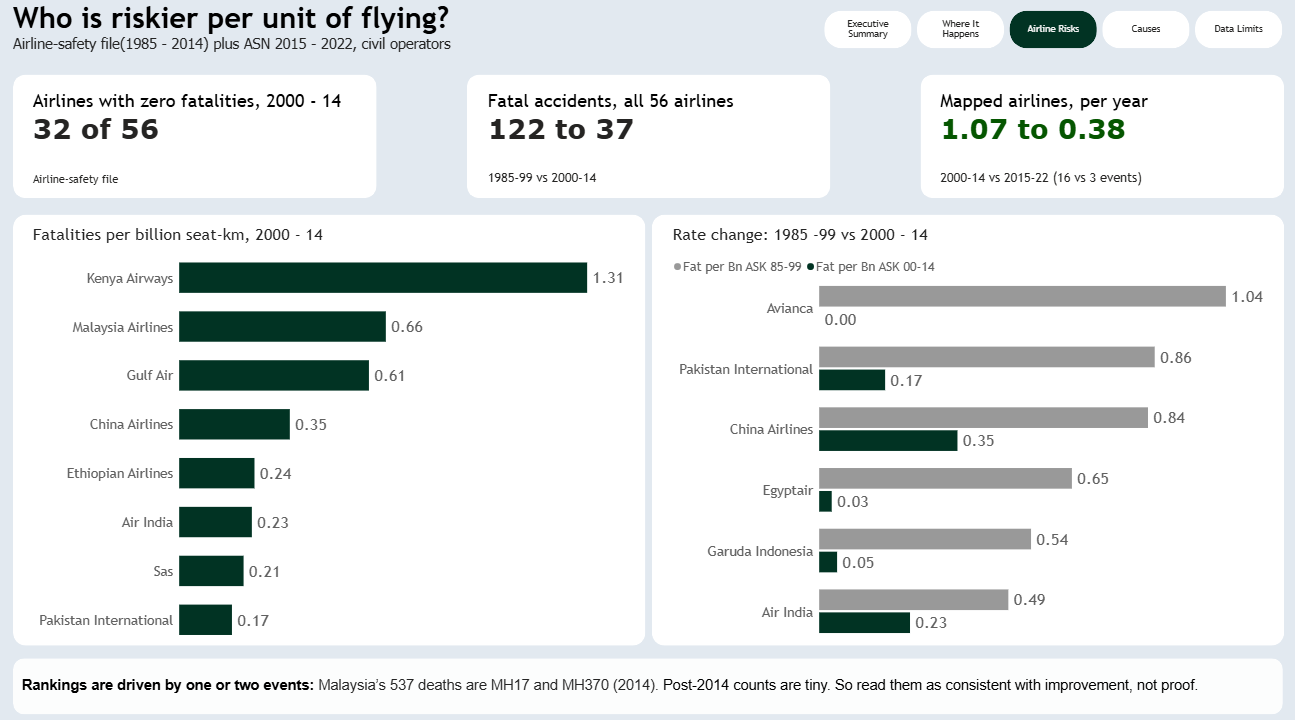

What the dashboard file says about the page in this screenshot:
{"tool":"powerbi","page":{"name":"Airline Risks","canvas":[1920,1080],"ordinal":2},"visuals":[{"type":"shape","box":[29.3,121.1,533.8,181.6],"z":0},{"type":"shape","box":[695.2,121.1,533.8,181.6],"z":1000},{"type":"shape","box":[1361,121.1,533.8,181.6],"z":2000},{"type":"shape","box":[29.3,327.4,928.1,632.8],"z":3000},{"type":"shape","box":[966.6,327.4,928.1,632.8],"z":4000},{"type":"textbox","box":[29.3,12.8,695.2,95.4],"z":5000},{"type":"cardVisual","fields":{"Data":["Dax Measures.Zero-Fatality Display"]},"box":[42.2,121.1,508.1,181.6],"z":7000},{"type":"cardVisual","fields":{"Data":["Dax Measures.Fatal Acc Change"]},"box":[709.9,121.1,495.2,181.6],"z":8000},{"type":"cardVisual","fields":{"Data":["Dax Measures.Per Year Change"]},"box":[1373.9,121.1,506.3,181.6],"z":9000},{"type":"clusteredBarChart","title":"Fatalities per billion seat-km, 2000 - 14","fields":{"Category":["dw airline_safety.airline"],"Y":["Dax Measures.Fat per Bn ASK 00-14"]},"box":[42.2,326.5,900.6,634.7],"z":10000},{"type":"clusteredBarChart","title":"Rate change: 1985 -99 vs 2000 - 14","fields":{"Category":["dw airline_safety.airline"],"Y":["Dax Measures.Fat per Bn ASK 85-99","Dax Measures.Fat per Bn ASK 00-14"]},"box":[981.3,326.5,898.8,632.8],"z":11000},{"type":"pageNavigator","box":[1219.8,27.5,675,55],"z":12000},{"type":"shape","box":[29.3,977.7,1863.6,82.5],"z":13000},{"type":"textbox","box":[42.2,1005.2,1837.9,55],"z":14000}]}

Visuals, with their boxes in screenshot pixels (x1, y1, x2, y2), scaled from the page's 1920x1080 canvas onto the 1295x720 screenshot:
shape: x1=20 y1=81 x2=380 y2=202
shape: x1=469 y1=81 x2=829 y2=202
shape: x1=918 y1=81 x2=1278 y2=202
shape: x1=20 y1=218 x2=646 y2=640
shape: x1=652 y1=218 x2=1278 y2=640
textbox: x1=20 y1=9 x2=489 y2=72
cardVisual - Dax Measures.Zero-Fatality Display: x1=28 y1=81 x2=371 y2=202
cardVisual - Dax Measures.Fatal Acc Change: x1=479 y1=81 x2=813 y2=202
cardVisual - Dax Measures.Per Year Change: x1=927 y1=81 x2=1268 y2=202
"Fatalities per billion seat-km, 2000 - 14" clusteredBarChart: x1=28 y1=218 x2=636 y2=641
"Rate change: 1985 -99 vs 2000 - 14" clusteredBarChart: x1=662 y1=218 x2=1268 y2=640
pageNavigator: x1=823 y1=18 x2=1278 y2=55
shape: x1=20 y1=652 x2=1277 y2=707
textbox: x1=28 y1=670 x2=1268 y2=707
